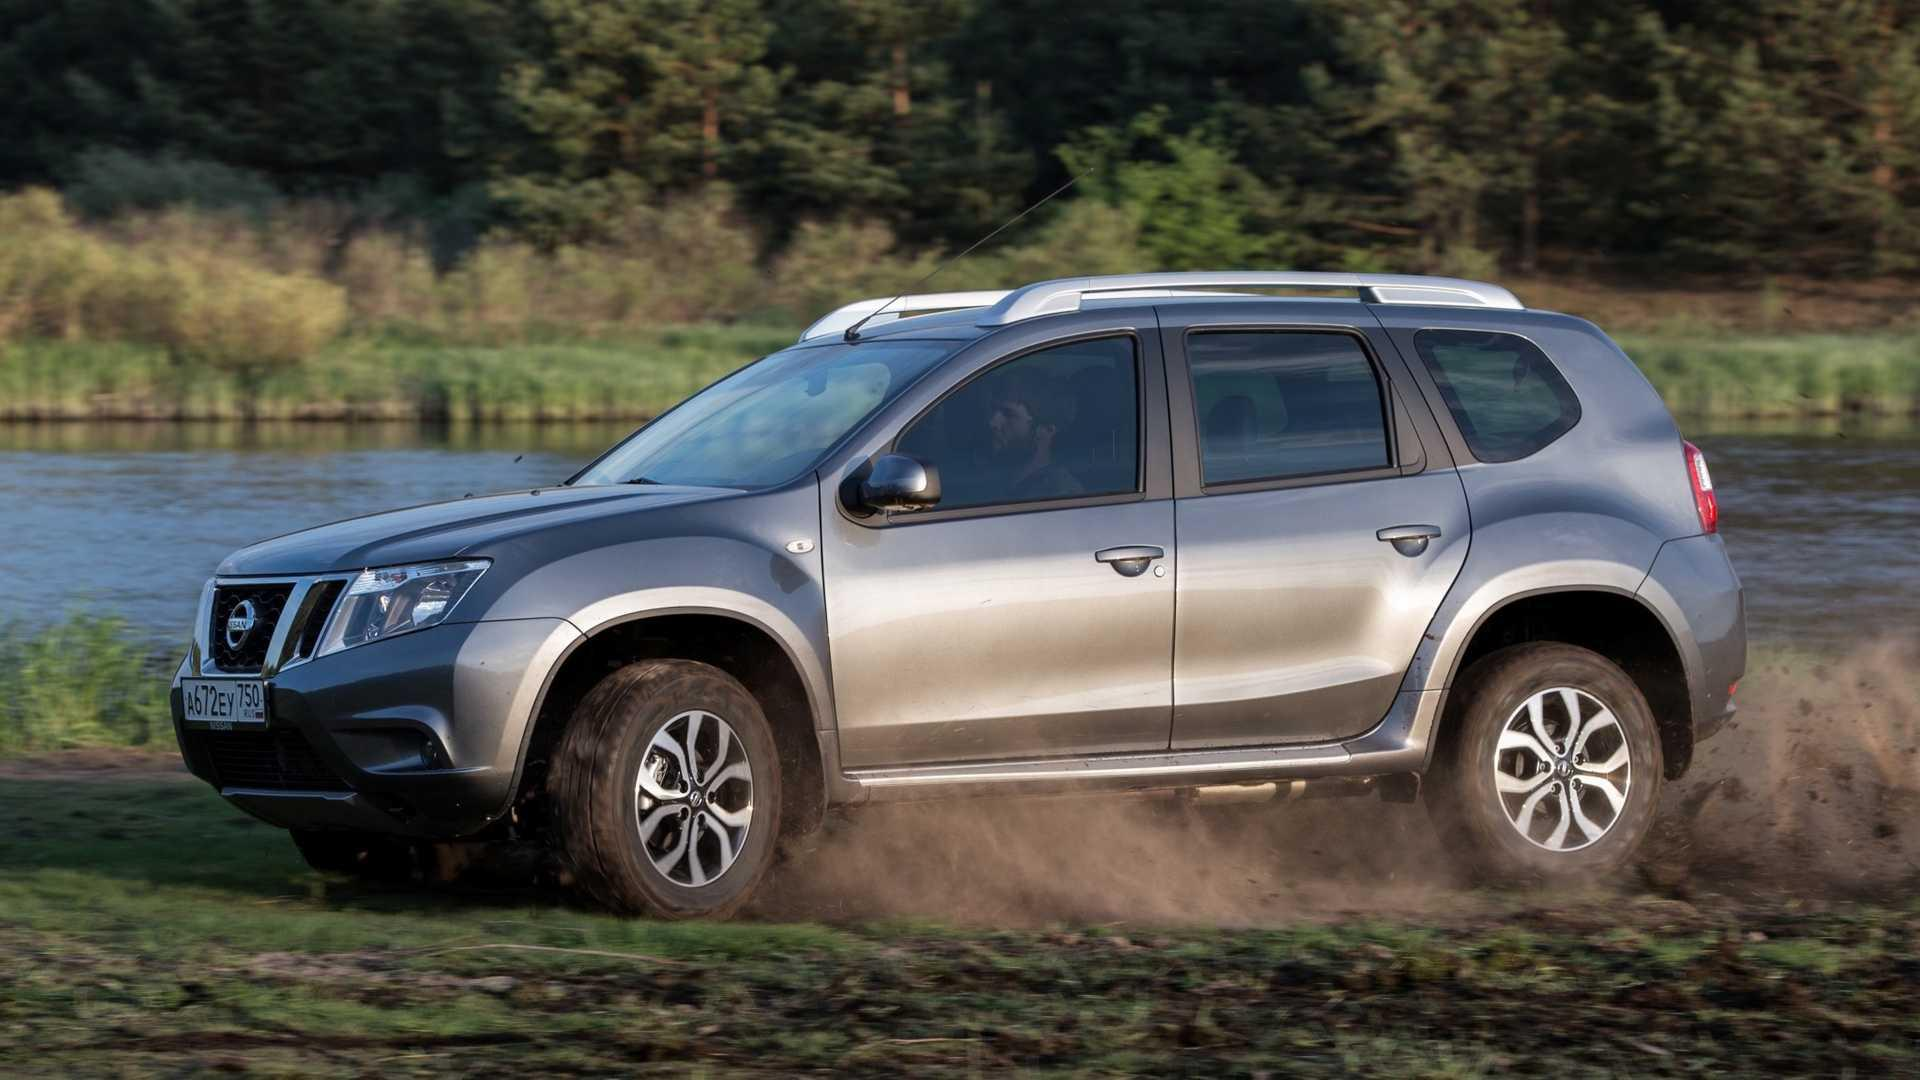car: (108, 187, 1834, 1035)
